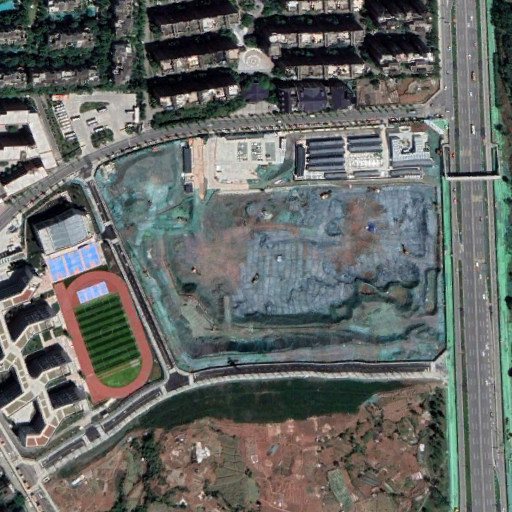cw: (93, 139, 446, 370)
